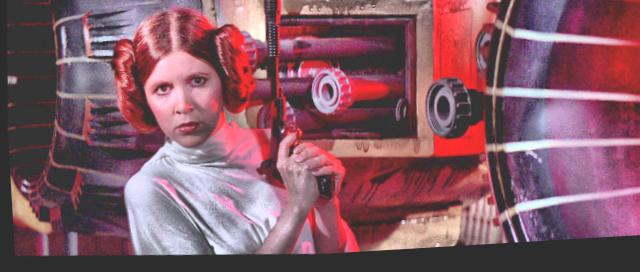pistol: (234, 69, 353, 202)
